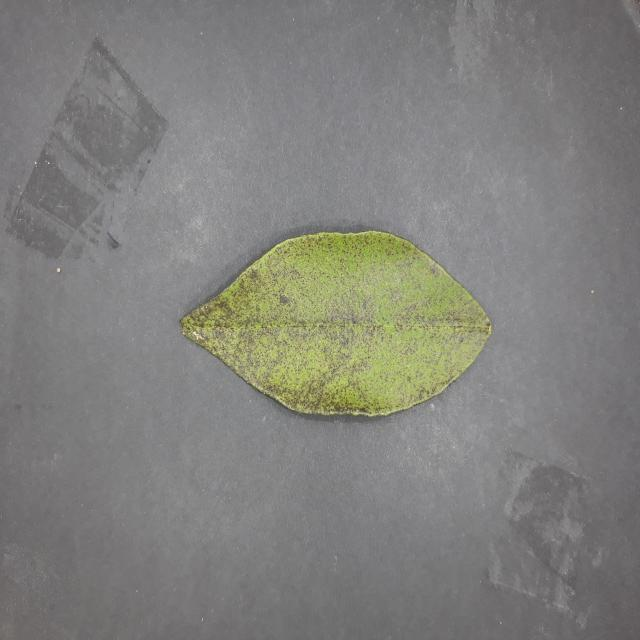greasy_spot: (181, 231, 491, 415)
